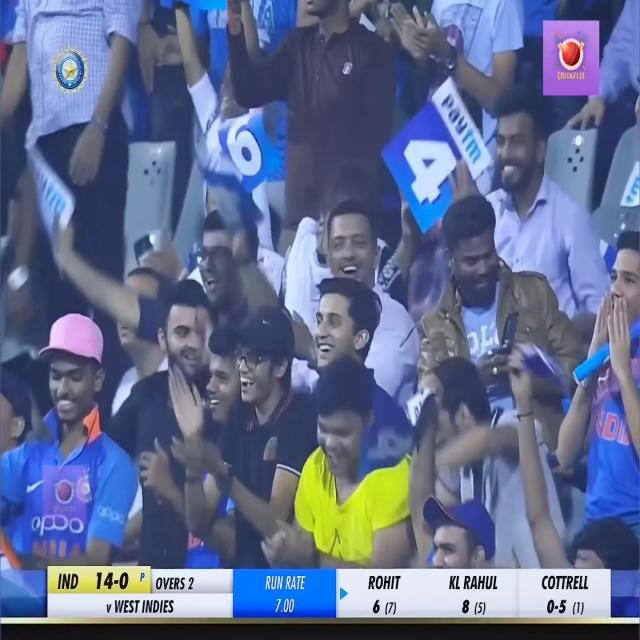fully_visible: (424, 68, 492, 172)
